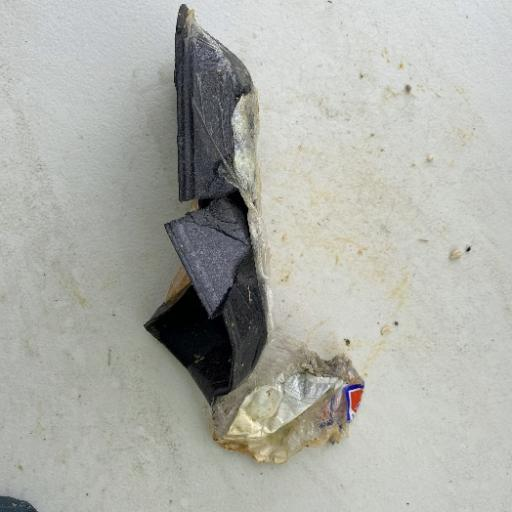Plastic: (142, 3, 366, 465)
